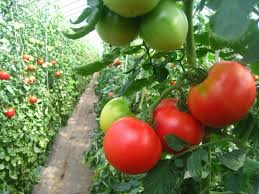tomato: (188, 61, 253, 125), (104, 118, 159, 173), (152, 97, 202, 153)
